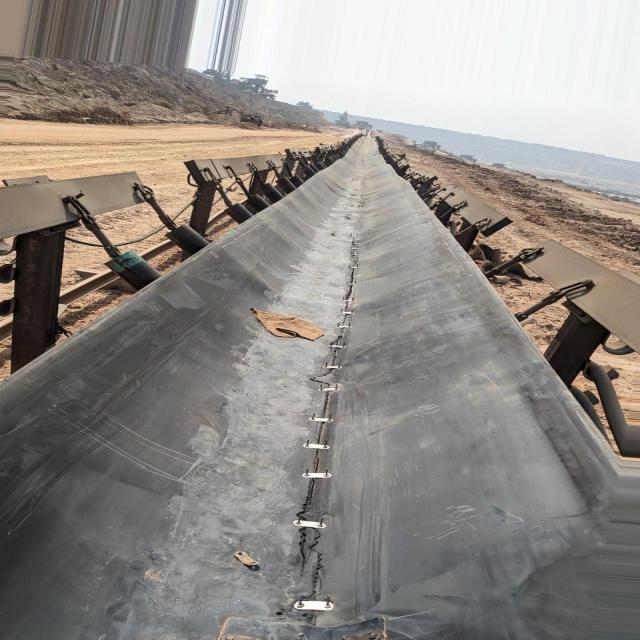Other Objects: (251, 309, 325, 340)
Roller: (226, 153, 341, 225), (105, 249, 163, 292), (166, 224, 211, 255)
patch work: (278, 248, 373, 620), (213, 616, 388, 640)
